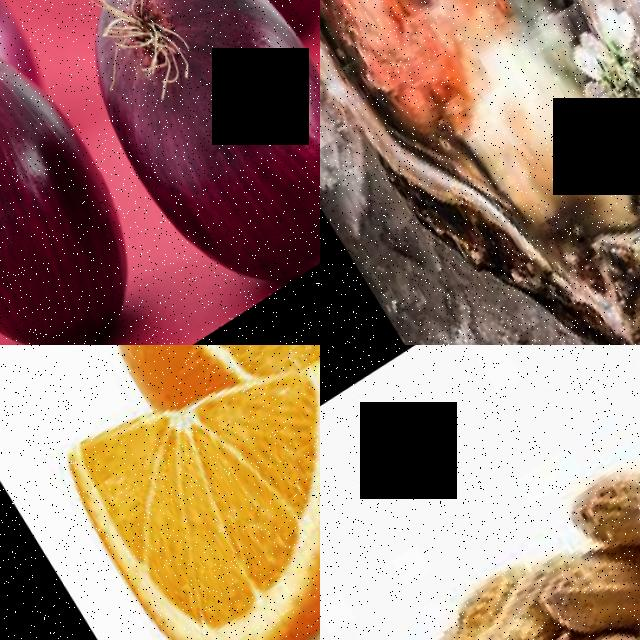onion: (24, 0, 320, 345), (0, 0, 167, 345), (183, 0, 320, 62)
orange: (51, 345, 320, 640), (0, 345, 320, 435)
oysters: (320, 0, 640, 345)
peanuts: (552, 417, 640, 605), (519, 536, 638, 640), (417, 592, 568, 640)
